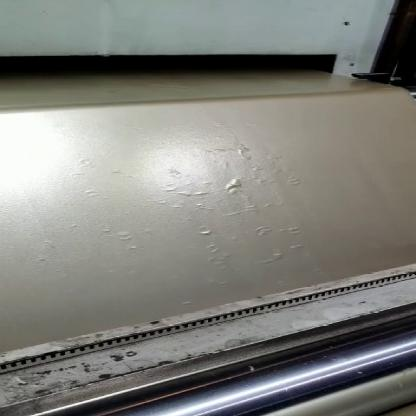Blisters: (190, 221, 221, 238), (180, 187, 210, 203), (219, 179, 247, 194), (222, 146, 248, 160), (118, 225, 132, 246), (240, 203, 273, 211)
